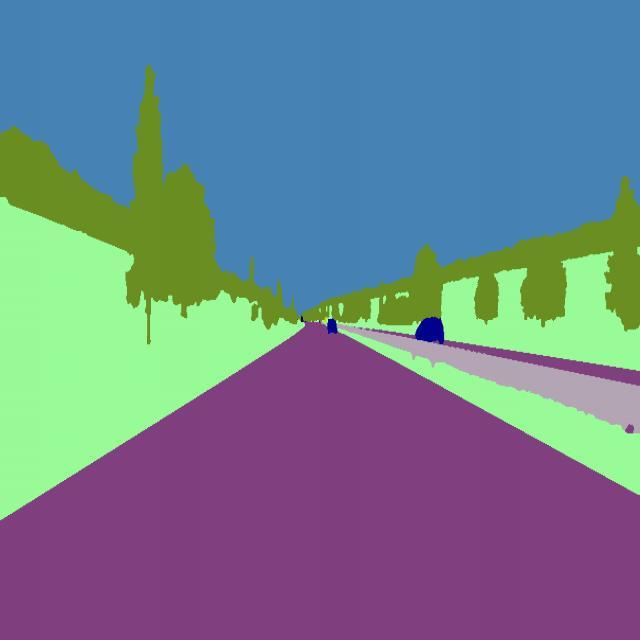safe: (412, 311, 448, 347), (325, 312, 339, 340)
